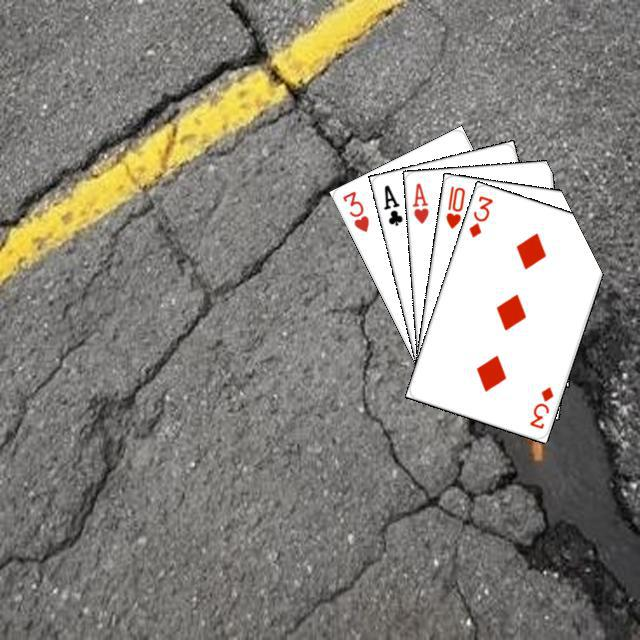10h: (441, 181, 467, 230)
3d: (524, 382, 555, 431), (464, 191, 495, 239)
3h: (337, 186, 371, 234)
Ac: (379, 180, 405, 228)
Ah: (407, 178, 430, 225)
